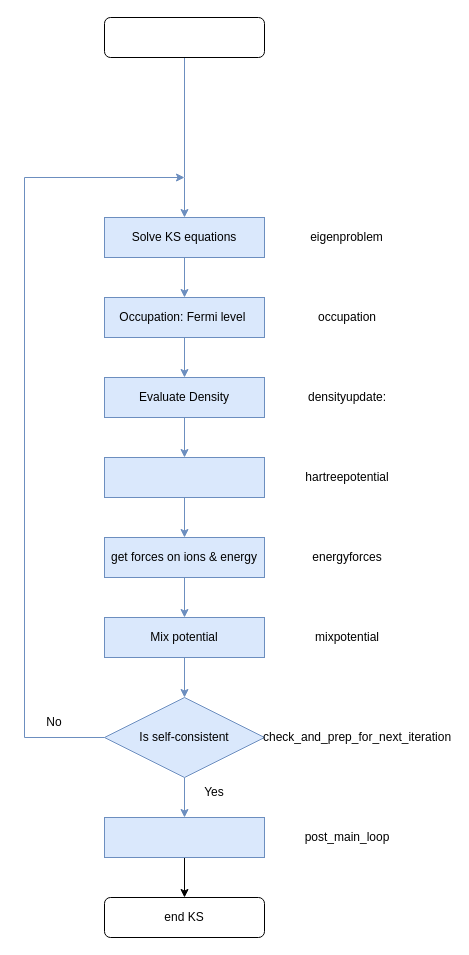
Some shapes in this 469 by 955 pixel diagram are drawn without their labels. The centre of each missing label's shape, as x and y in pixels:
Calculate effective potential: point (184, 477)
log: point (184, 837)
start KS: point (184, 37)
